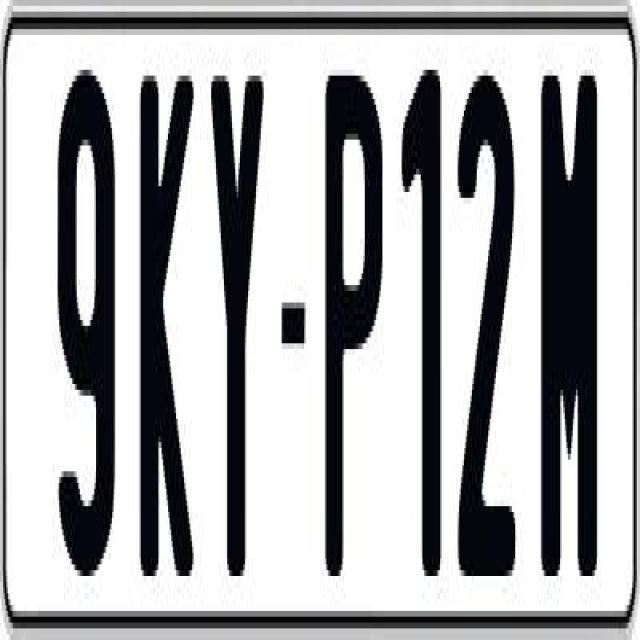1: (397, 70, 435, 576)
2: (456, 70, 517, 594)
9: (58, 58, 120, 570)
K: (138, 58, 198, 594)
M: (540, 76, 598, 576)
P: (320, 76, 381, 600)
Y: (211, 70, 264, 606)
